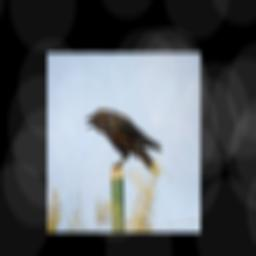Crow: (83, 106, 165, 175)
